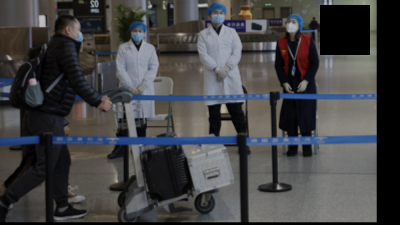with_mask: (210, 10, 224, 25), (72, 25, 83, 43), (284, 19, 298, 33), (130, 29, 143, 43)
